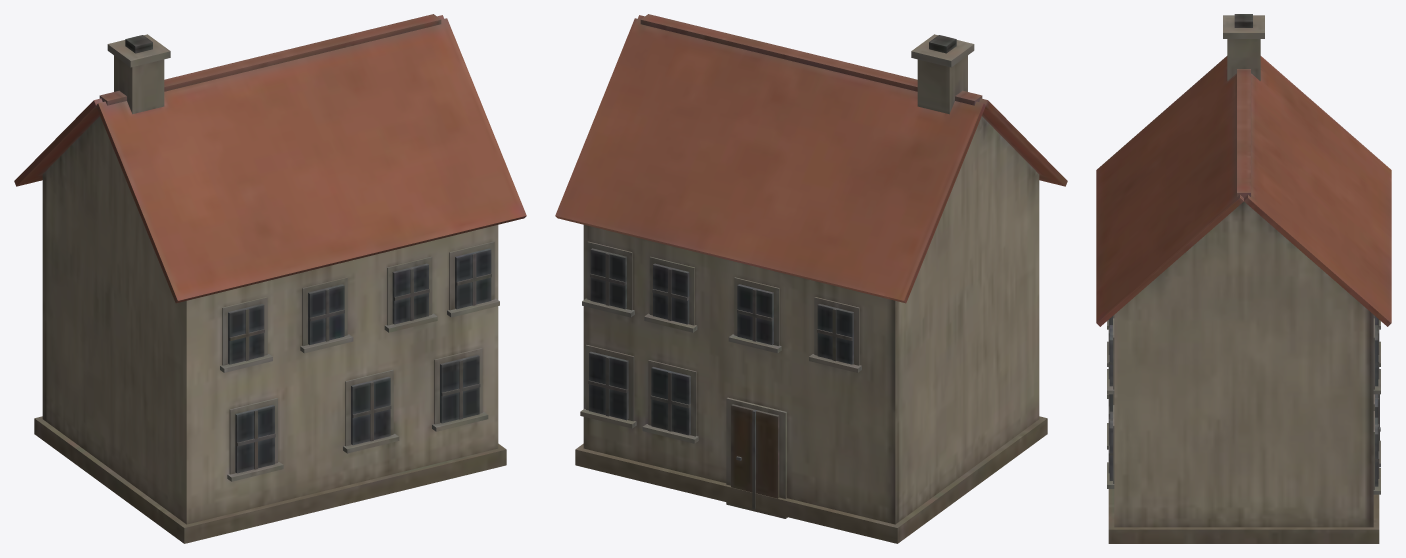
Rendered from house_normandy_s_baked.glb.
3 renders of one model, left to right at view 1: azimuth 30°, elevation 25°; view 2: azimuth 150°, elevation 25°; view 3: azimuth 270°, elevation 25°, orthographic. The views are drawn at different scales.
Parts seen in each view (by area): view 1: house_normandy_s; view 2: house_normandy_s; view 3: house_normandy_s.
Boxes of the visible parts, x1=… form: house_normandy_s: x1=14, y1=14, x2=526, y2=543; house_normandy_s: x1=555, y1=14, x2=1067, y2=543; house_normandy_s: x1=1096, y1=14, x2=1391, y2=543.
Bounding box in the file's own units: 7.84 × 9.56 × 6.37.
1 material, 1 textured.
